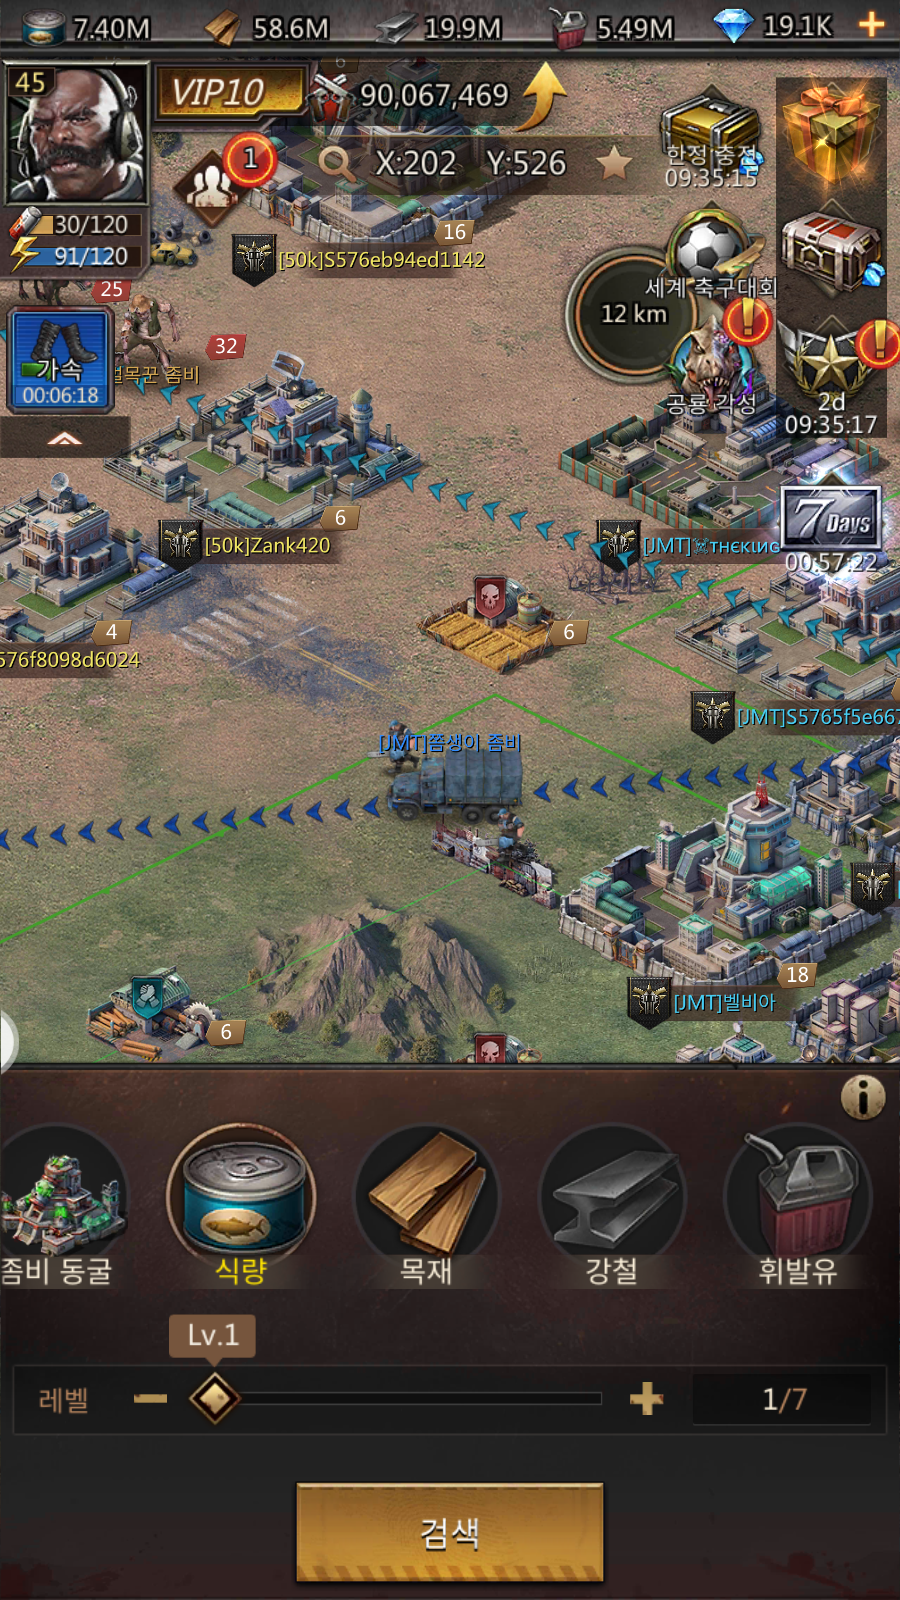rss_food_in_panel: (162, 1116, 325, 1298)
rss_gas_in_panel: (724, 1122, 878, 1298)
rss_lv1: (168, 1310, 256, 1354)
rss_minus_in_panel: (122, 1374, 176, 1420)
rss_plus_in_panel: (619, 1374, 675, 1422)
rss_search_in_panel: (298, 1485, 605, 1580)
rss_steel_in_panel: (534, 1124, 693, 1293)
rss_wood_in_panel: (351, 1120, 503, 1295)
